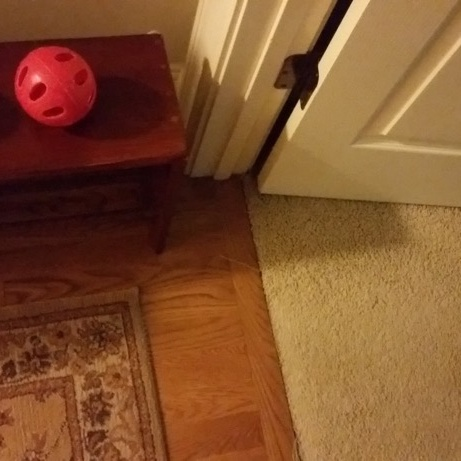redball: (10, 40, 102, 130)
